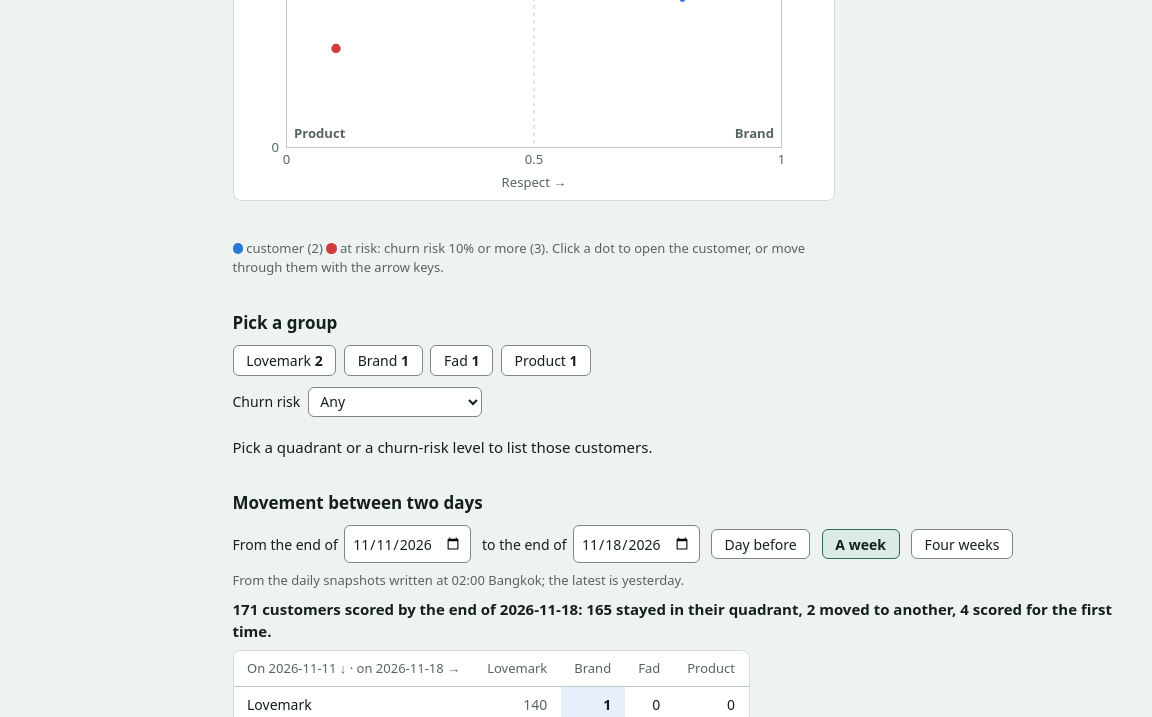
Test case: picking a quadrant lists its customers, riskiest first, and fades the rest
(page scrolled)
Step 1. Click the button "Lovemark 2" → (284, 360), box [232,345,336,376]
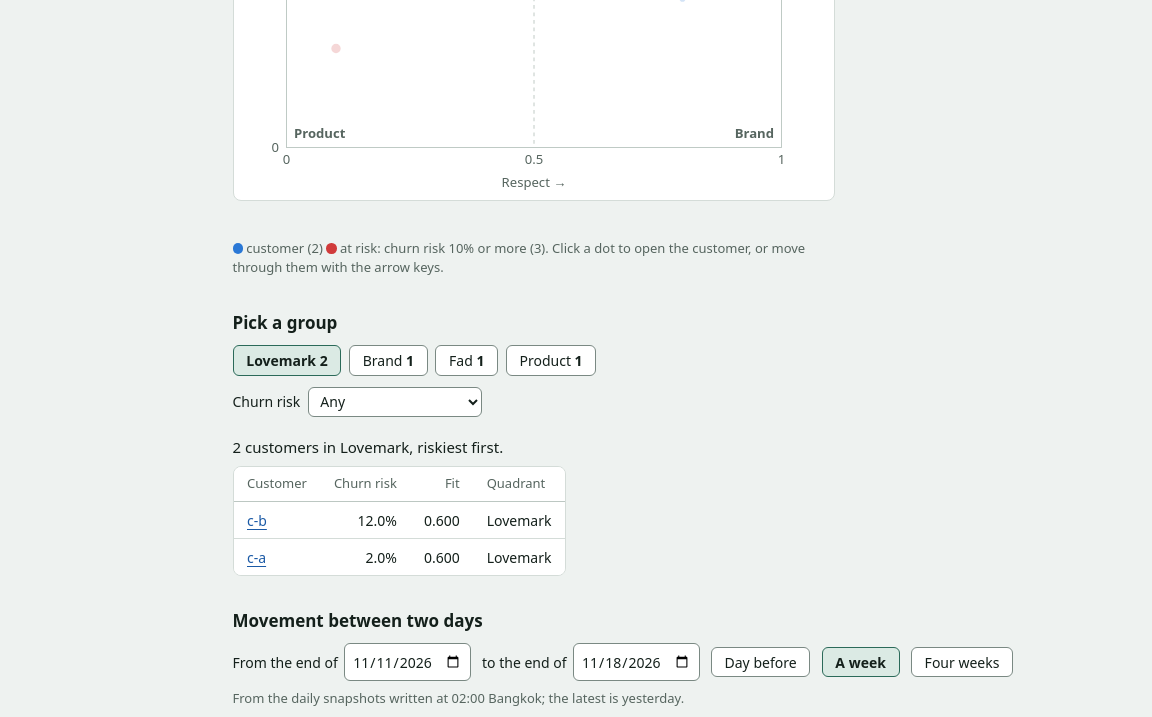
expect the text "2 customers in Lovemark, riskiest first." is shown: met, box [232,436,503,456]
Step 2. Click the button "Lovemark 2" → (287, 360), box [232,345,341,376]
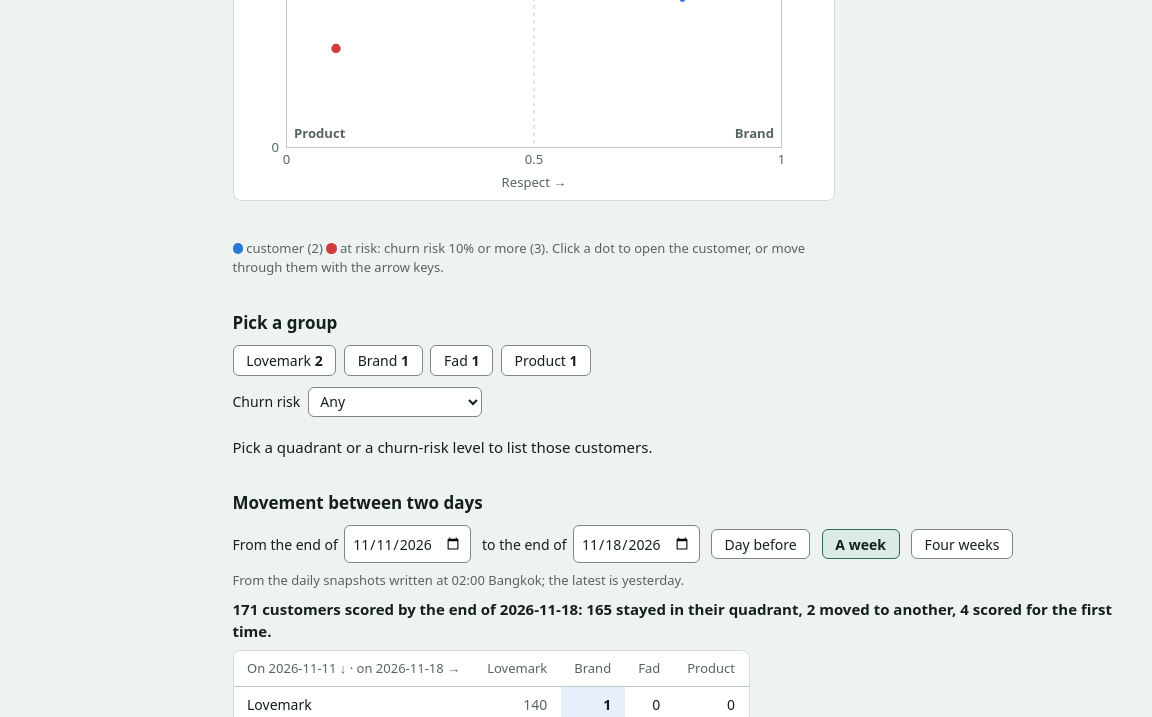
expect the text "Pick a quadrant or a churn-risk level to list those customers." is shown: met, box [232,436,652,456]
